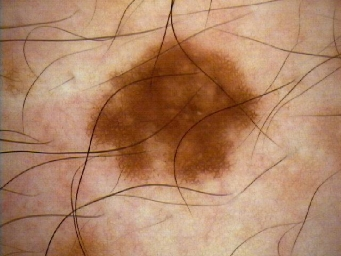melanoma: (88, 41, 258, 184)
